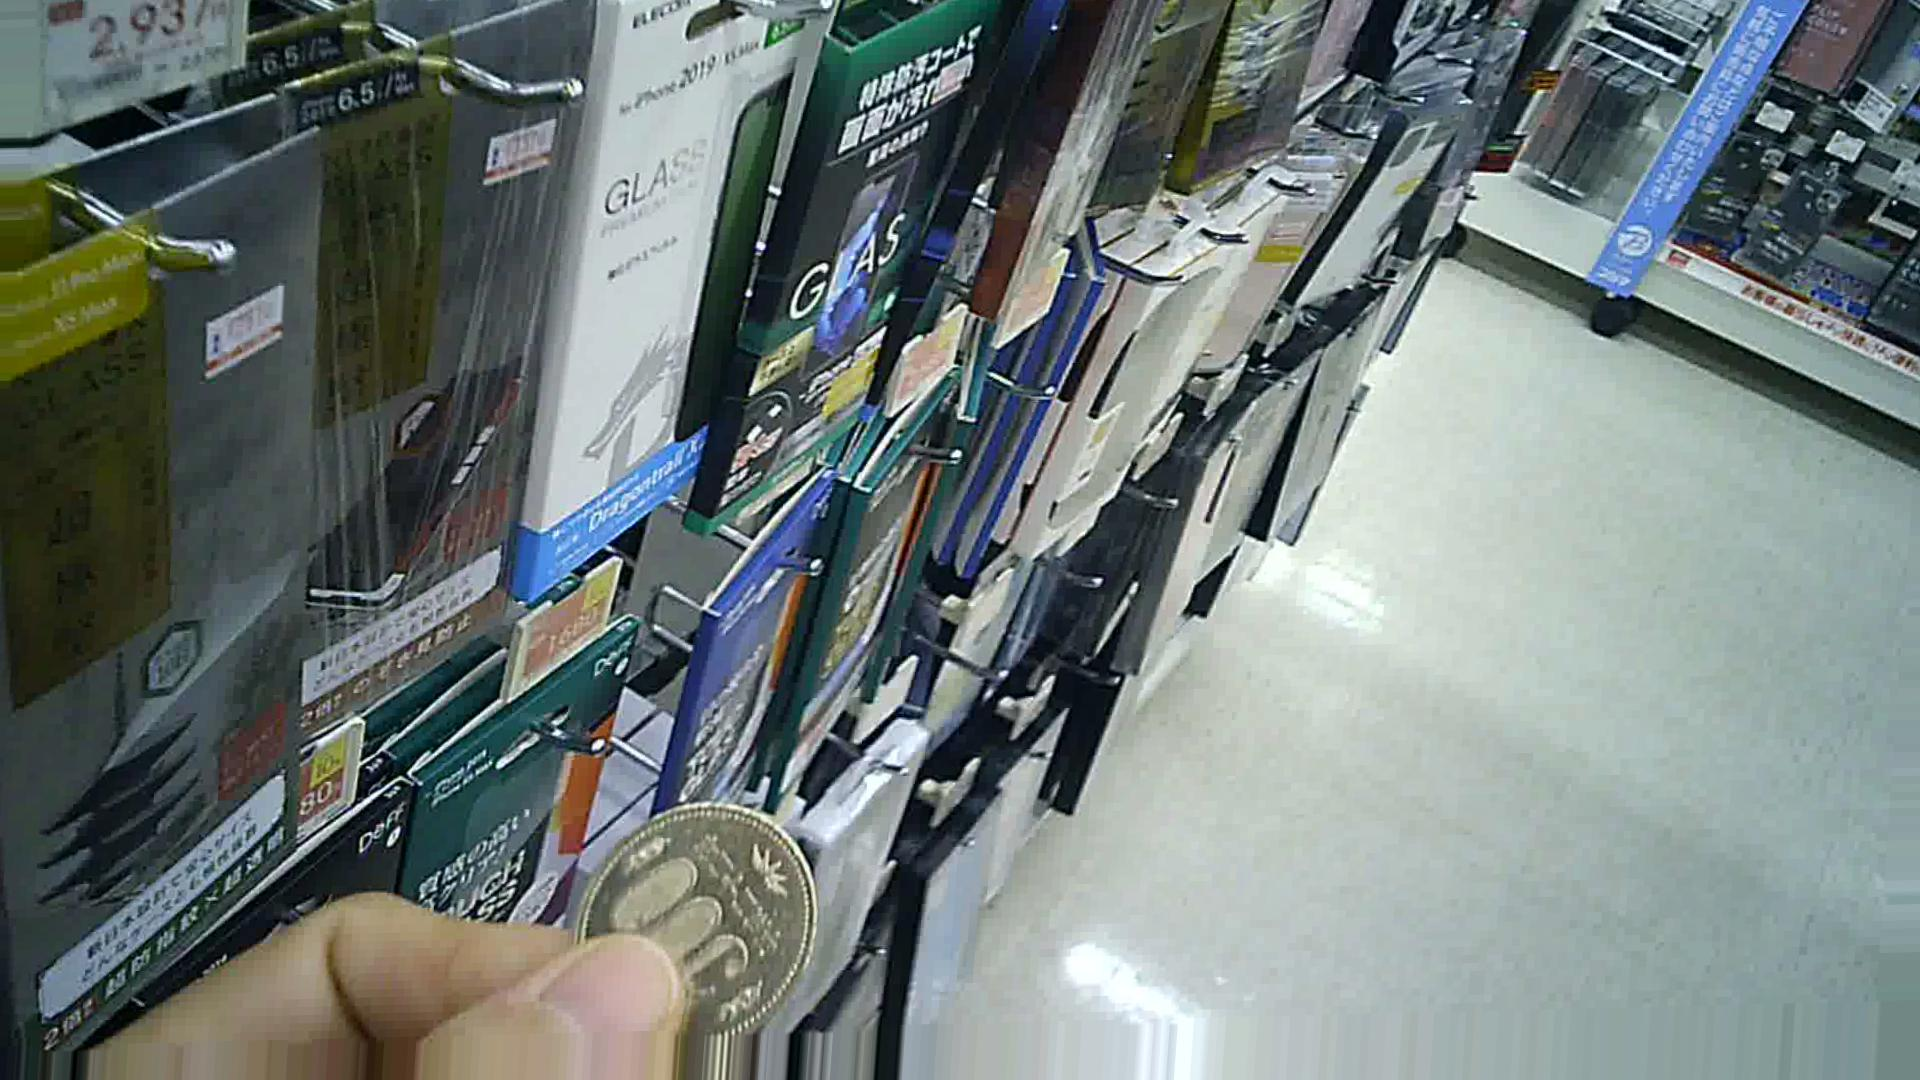500 Yen: (564, 785, 814, 1048)
